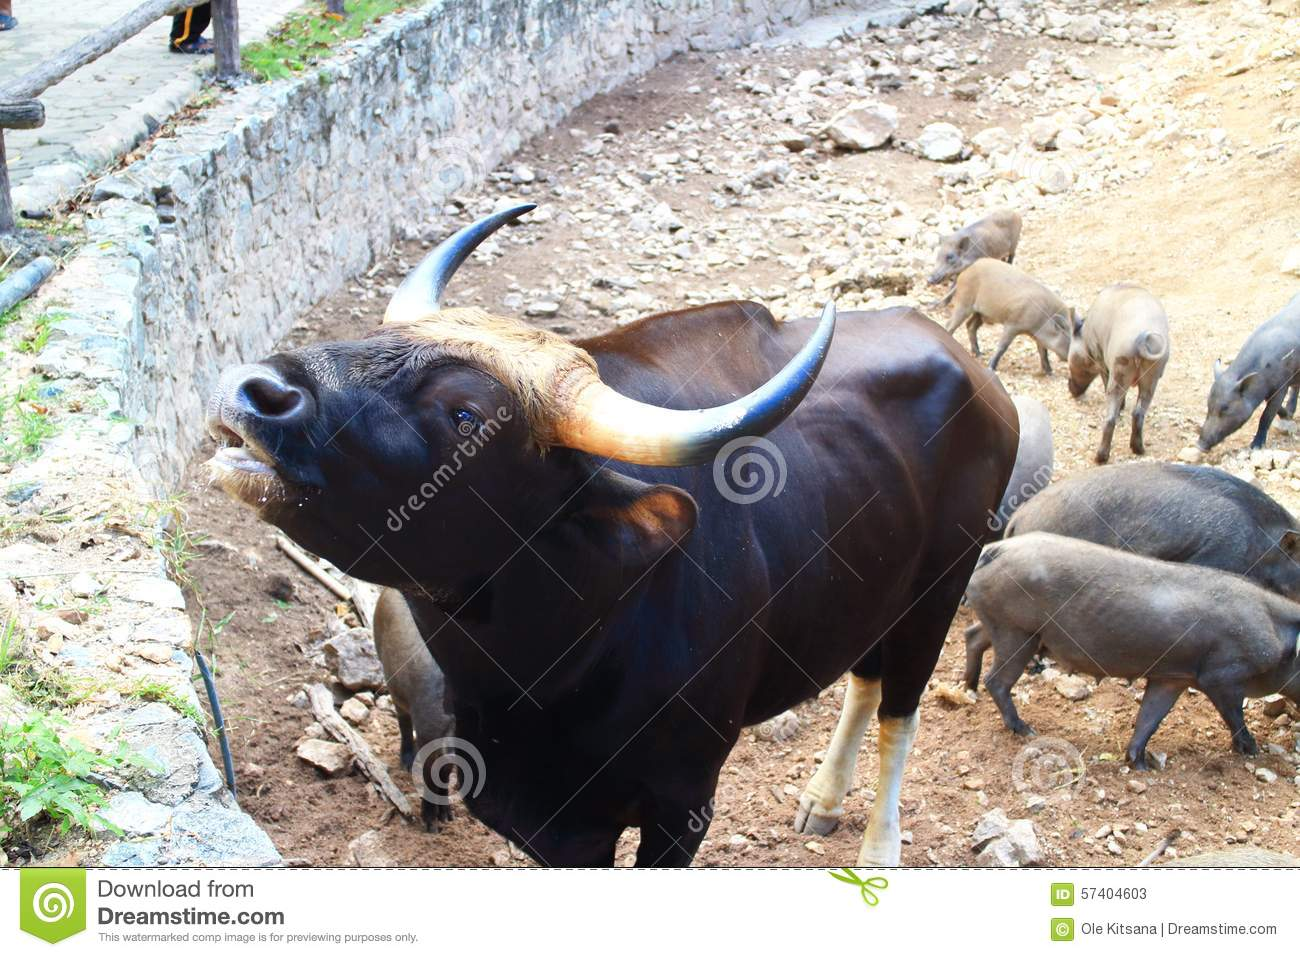bison: (194, 199, 1020, 876)
